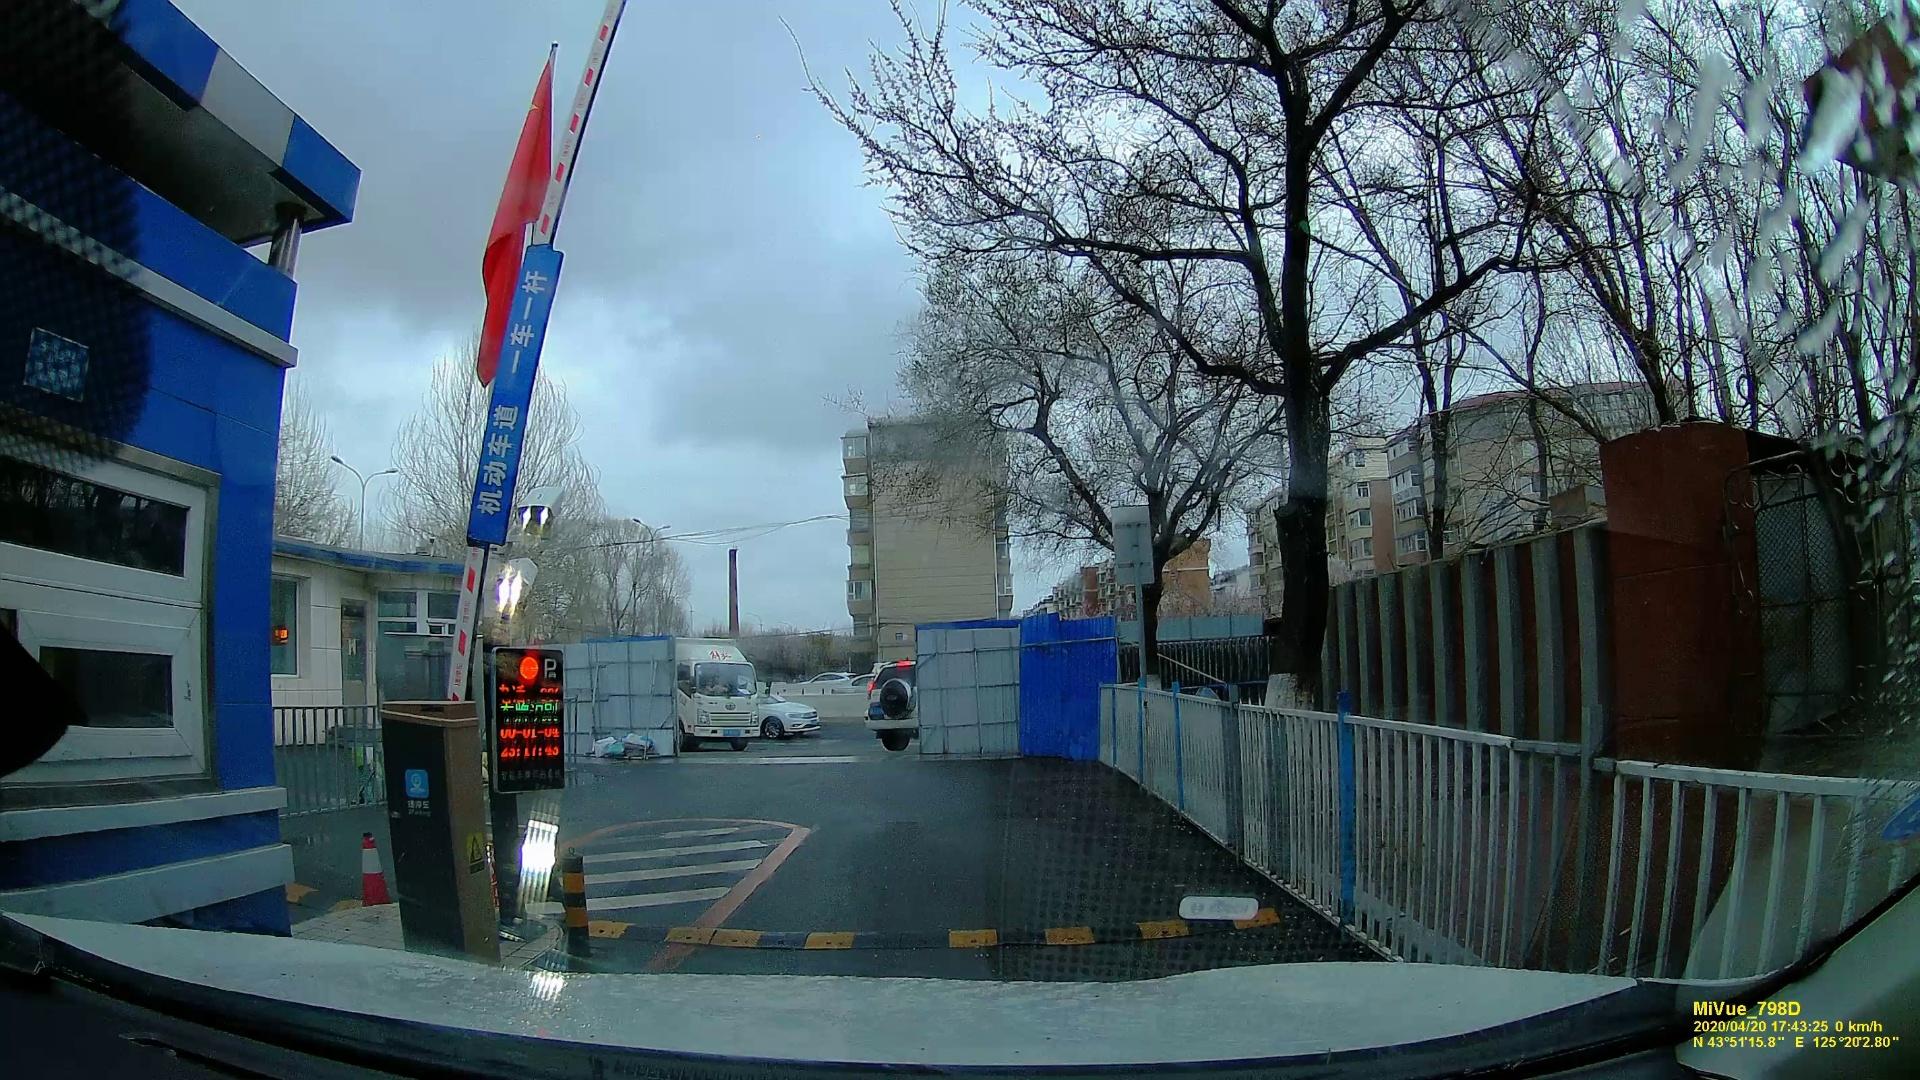truck: (671, 636, 762, 757)
vehicle: (862, 659, 920, 752), (764, 688, 822, 741), (800, 670, 855, 691)
